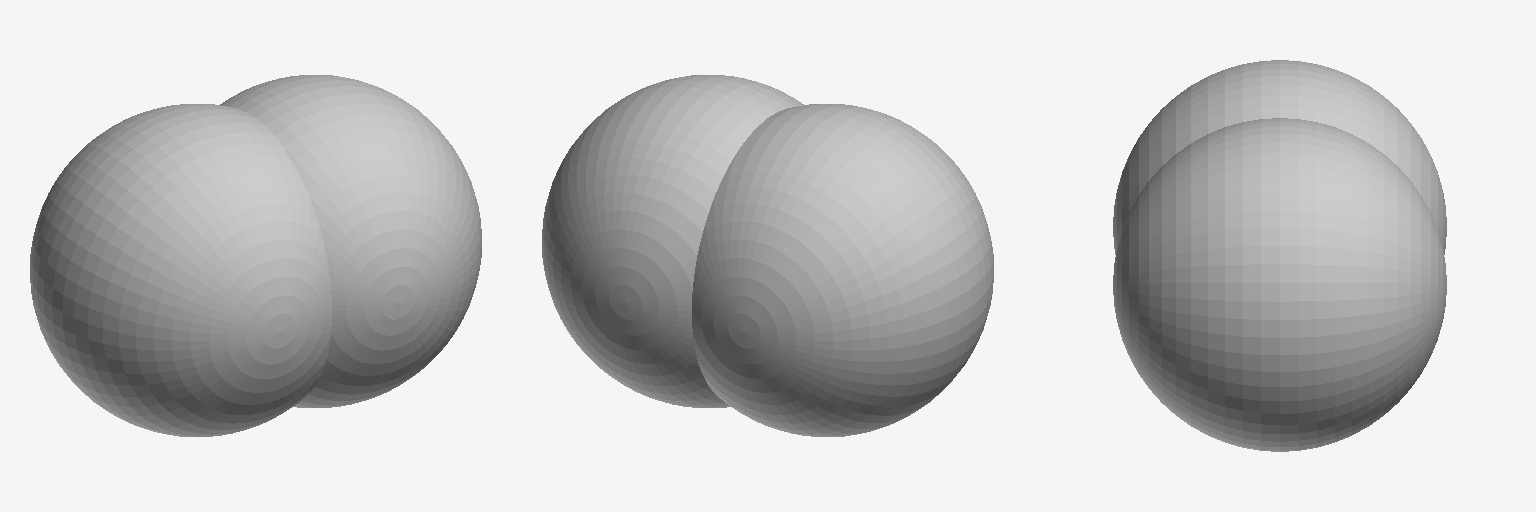
File: ShikamaruEye.obj
3 renders of one model, left to right at view 1: azimuth 30°, elevation 25°; view 2: azimuth 150°, elevation 25°; view 3: azimuth 270°, elevation 25°, orthographic.
Visible parts, largest first — view 1: 5_Eyes_1_0_0; view 2: 5_Eyes_1_0_0; view 3: 5_Eyes_1_0_0.
Boxes of the visible parts, <box> form: 5_Eyes_1_0_0: <box>30,75,481,436</box>; 5_Eyes_1_0_0: <box>542,75,993,436</box>; 5_Eyes_1_0_0: <box>1113,60,1446,451</box>.
Size of the model in its own units: 0.1561 by 0.1108 by 0.1108.